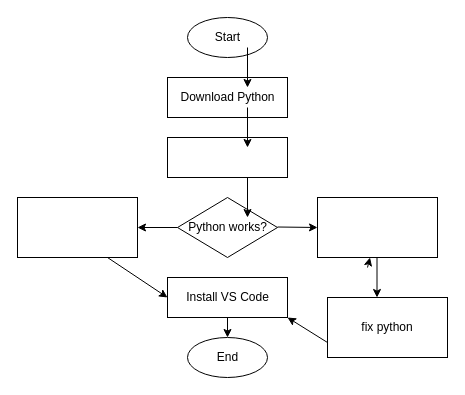
Some shapes in this 465 by 395 pixel diagram are drawn without their labels. The box of each missing label's shape, as (x1, y1, x2, y2) in pixels:
Install Python: (166, 136, 288, 178)
no: (316, 196, 438, 258)
yes: (16, 196, 138, 258)
